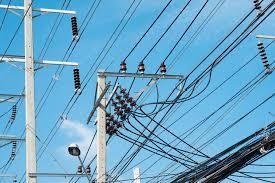wires-only: (147, 119, 275, 182)
